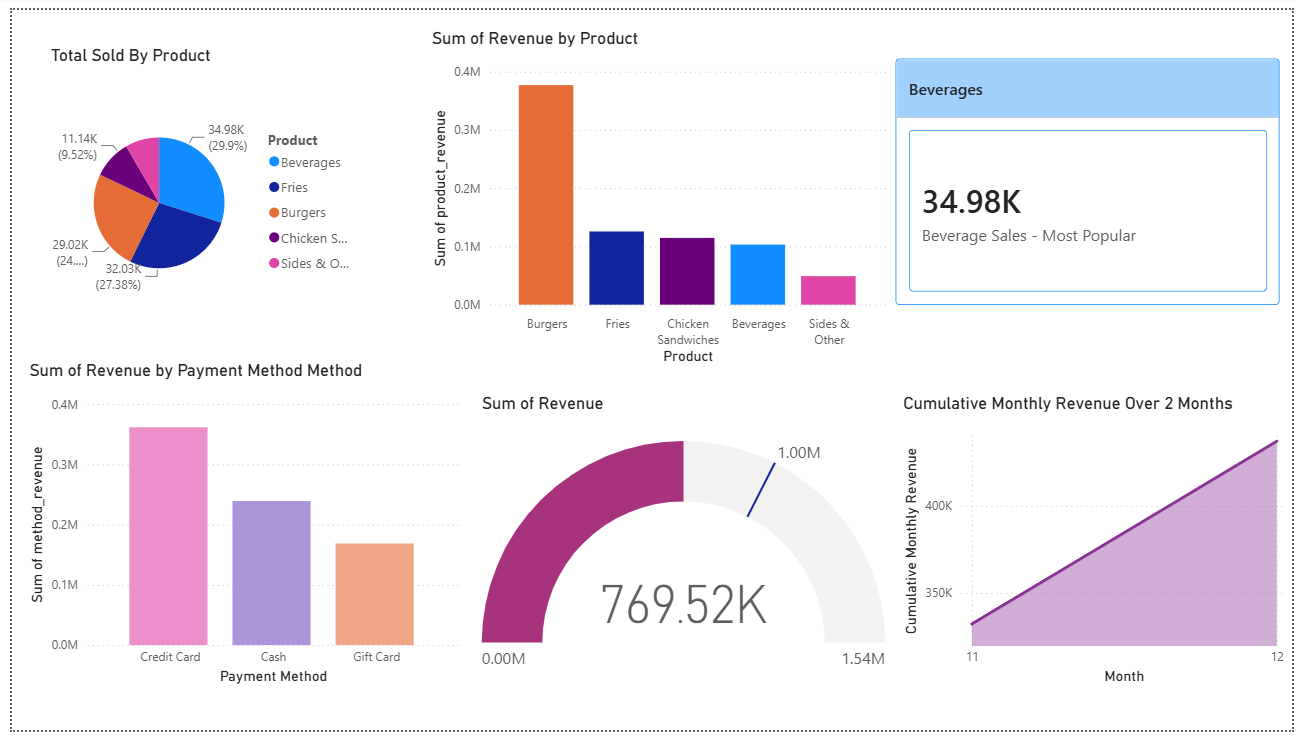

What the dashboard file says about the page in this screenshot:
{"tool":"powerbi","page":{"name":"Page 1","canvas":[1280,720],"ordinal":0},"visuals":[{"type":"pieChart","title":"Total Sold By Product","fields":{"Category":["restaurant_sales_db product_sales.Product"],"Y":["Sum(restaurant_sales_db product_sales.total_sold)"]},"box":[33.8,35,321.1,285.6],"z":0},{"type":"clusteredColumnChart","title":"Sum of Revenue by Product","fields":{"Category":["restaurant_sales_db revenue_by_item.Product"],"Y":["Sum(restaurant_sales_db revenue_by_item.product_revenue)"]},"box":[415,17.5,464,342],"z":1000},{"type":"columnChart","title":"Sum of Revenue by Payment Method Method","fields":{"Category":["restaurant_sales_db payment_method.Payment Method"],"Y":["Sum(restaurant_sales_db payment_method.method_revenue)"]},"box":[12.5,350,440,328.9],"z":2000},{"type":"gauge","title":"Sum of Revenue","fields":{"Y":["Sum(restaurant_sales_db tot_revenue.revenue)"]},"box":[465,382.5,413.3,295.6],"z":3000},{"type":"stackedAreaChart","title":"Cumulative Monthly Revenue Over 2 Months","fields":{"Y":["Sum(restaurant_sales_db revenue_by_month.monthly_revenue)"],"Category":["restaurant_sales_db revenue_by_month.month"]},"box":[886.2,382.5,393.8,296.2],"z":4000},{"type":"cardVisual","fields":{"Data":["Sum(restaurant_sales_db most_popular.popularity)"],"Rows":["restaurant_sales_db most_popular.Product"]},"box":[878.8,23.8,394,296],"z":5000}]}

Visuals, with their boxes in screenshot pixels (x1, y1, x2, y2), scaled from the page's 1280x720 canvas onto the 1298x740 screenshot:
"Total Sold By Product" pieChart: detection(34, 36, 360, 330)
"Sum of Revenue by Product" clusteredColumnChart: detection(421, 18, 891, 369)
"Sum of Revenue by Payment Method Method" columnChart: detection(13, 360, 459, 698)
"Sum of Revenue" gauge: detection(472, 393, 891, 697)
"Cumulative Monthly Revenue Over 2 Months" stackedAreaChart: detection(899, 393, 1297, 698)
cardVisual - Sum(restaurant_sales_db most_popular.popularity) x restaurant_sales_db most_popular.Product: detection(891, 24, 1291, 329)
